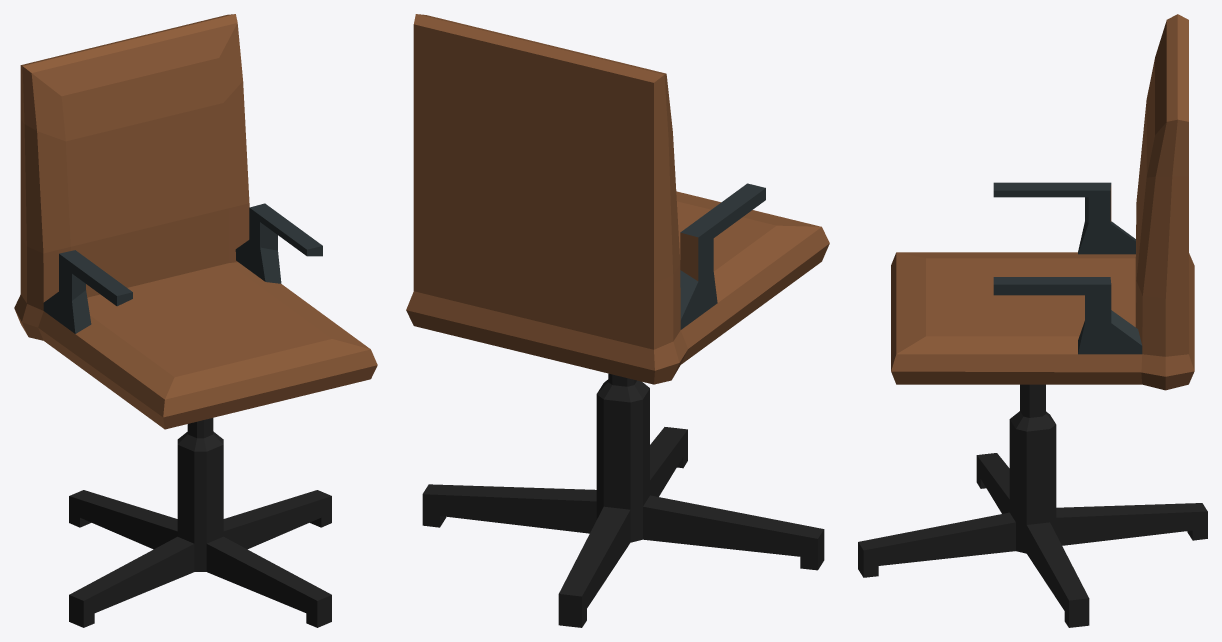
The model's file is ChairV2.fbx.
3 renders of one model, left to right at view 1: azimuth 30°, elevation 25°; view 2: azimuth 150°, elevation 25°; view 3: azimuth 270°, elevation 25°, orthographic. The views are drawn at different scales.
Visible parts, largest first — view 1: ChairV2_Top, ChairV2; view 2: ChairV2_Top, ChairV2; view 3: ChairV2_Top, ChairV2.
Boxes of the visible parts, left/top/right/bottom form: ChairV2_Top: left=14, top=14, right=377, bottom=429; ChairV2: left=69, top=418, right=331, bottom=627; ChairV2_Top: left=406, top=14, right=829, bottom=384; ChairV2: left=422, top=373, right=824, bottom=627; ChairV2_Top: left=891, top=14, right=1194, bottom=390; ChairV2: left=858, top=384, right=1207, bottom=627.
Size of the model in its own units: 69.97 by 108 by 69.97.
